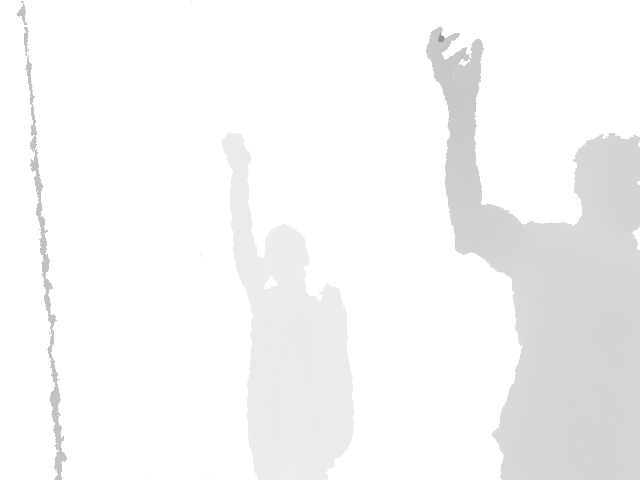hand: (425, 25, 484, 105), (219, 131, 252, 171)
head: (572, 132, 640, 236), (262, 224, 311, 291)
person: (425, 26, 640, 480), (218, 131, 356, 480)
